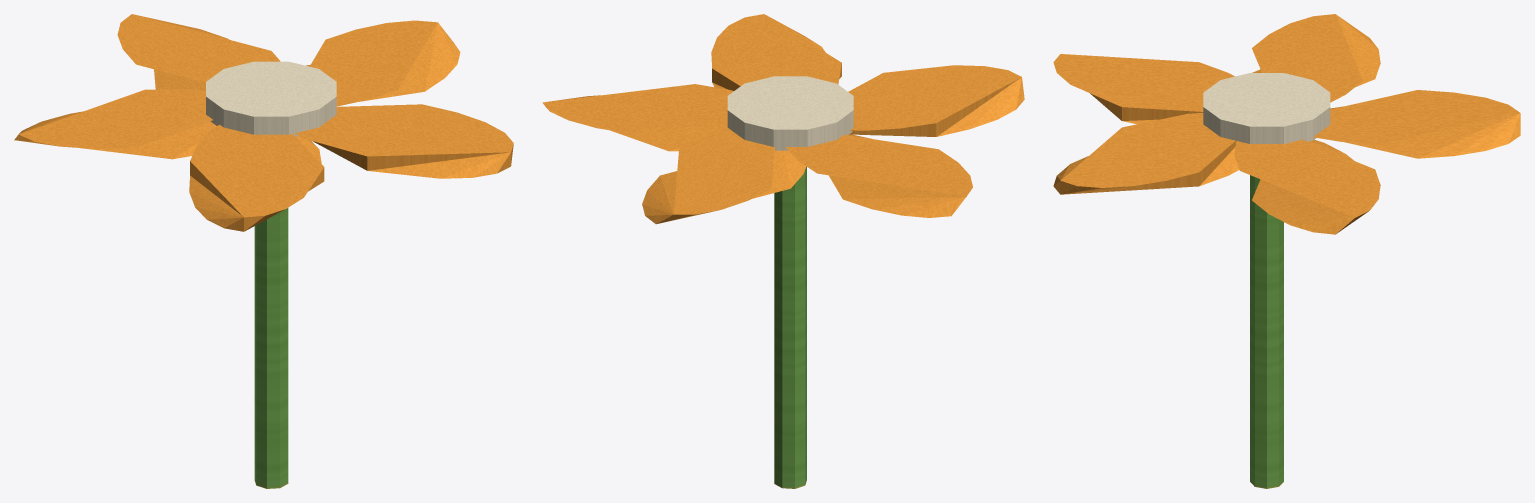
File: flower_orange.obj
The picture shows the model from 3 angles, left to right: view 1: azimuth 30°, elevation 25°; view 2: azimuth 150°, elevation 25°; view 3: azimuth 270°, elevation 25°; orthographic projection. The views are drawn at different scales.
Visible parts, largest first — view 1: flower_orange; view 2: flower_orange; view 3: flower_orange.
Part boxes in pixels (bbox=[...]): flower_orange: bbox=[14, 14, 513, 488]; flower_orange: bbox=[542, 14, 1024, 488]; flower_orange: bbox=[1053, 14, 1520, 488].
Bounding box in the file's own units: 0.6322 × 0.545 × 0.6041.
1 material, 1 textured.
